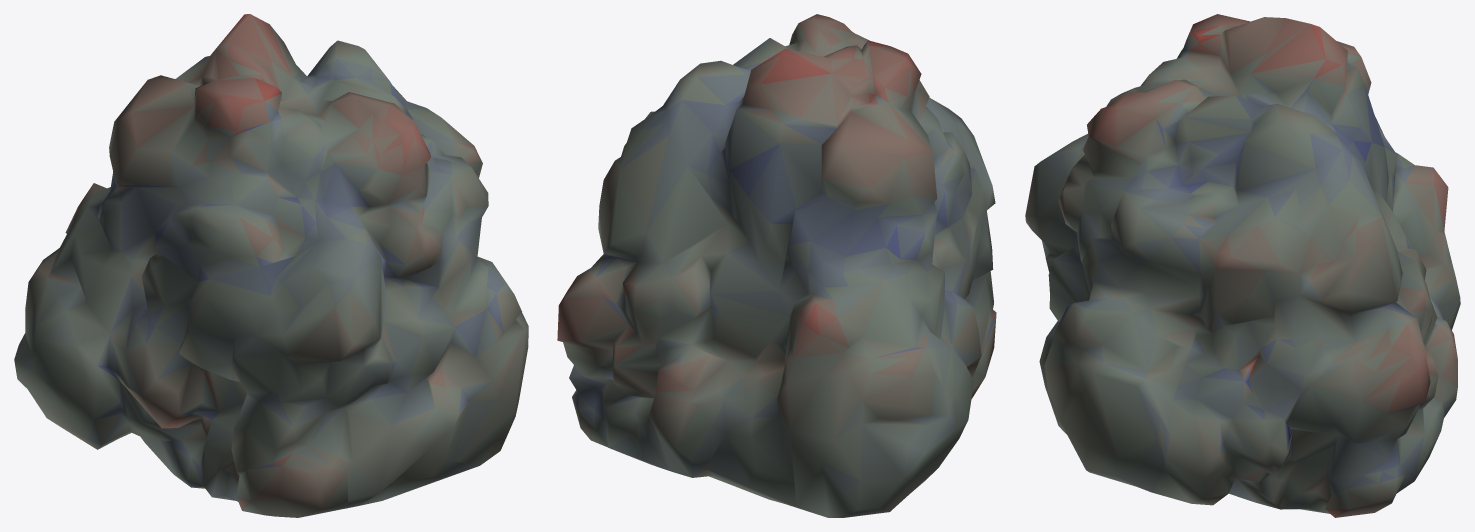
The model's file is rock_cliff.fbx.
The picture shows the model from 3 angles, left to right: view 1: azimuth 30°, elevation 25°; view 2: azimuth 150°, elevation 25°; view 3: azimuth 270°, elevation 25°; orthographic projection. The views are drawn at different scales.
Parts seen in each view (by area): view 1: Rock_Clump_Huge; view 2: Rock_Clump_Huge; view 3: Rock_Clump_Huge.
Boxes of the visible parts, x1=… form: Rock_Clump_Huge: x1=14, y1=14, x2=528, y2=517; Rock_Clump_Huge: x1=557, y1=14, x2=996, y2=517; Rock_Clump_Huge: x1=1025, y1=14, x2=1460, y2=517.
Bounding box in the file's own units: 820 × 872 × 809.
